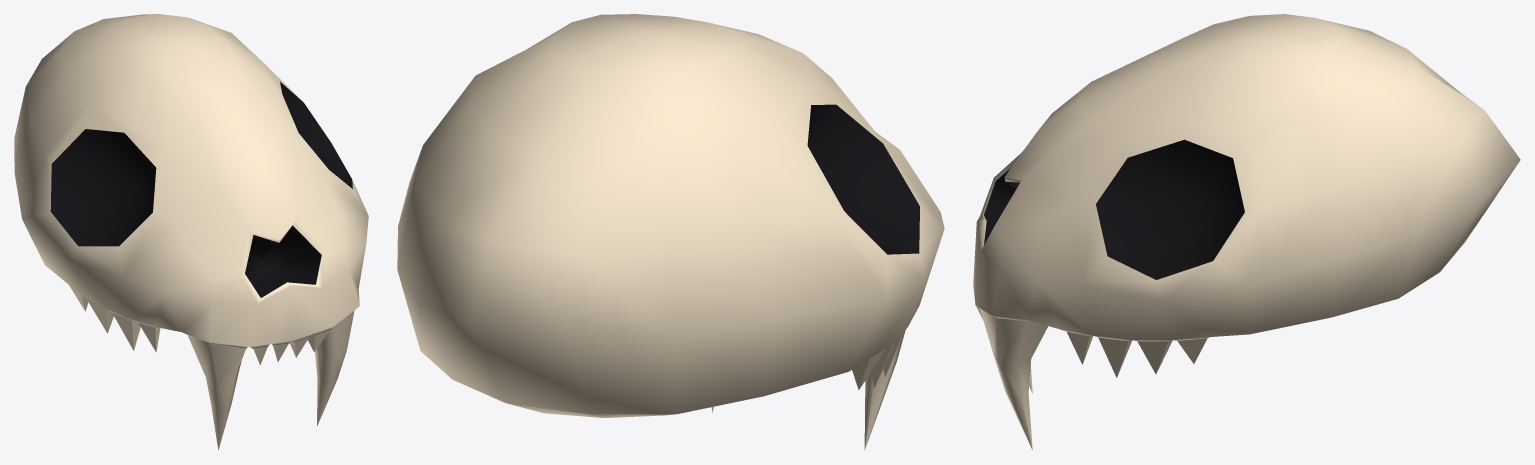
File: Big_Cat_Skull.fbx
3 renders of one model, left to right at view 1: azimuth 30°, elevation 25°; view 2: azimuth 150°, elevation 25°; view 3: azimuth 270°, elevation 25°, orthographic. The views are drawn at different scales.
Visible parts, largest first — view 1: Big_Cat_Skull; view 2: Big_Cat_Skull; view 3: Big_Cat_Skull.
Part boxes in pixels (left/top/right/bottom): Big_Cat_Skull: left=14, top=14, right=368, bottom=450; Big_Cat_Skull: left=397, top=14, right=944, bottom=450; Big_Cat_Skull: left=973, top=14, right=1520, bottom=449.
Bounding box in the file's own units: 15.49 × 15.63 × 20.13.
